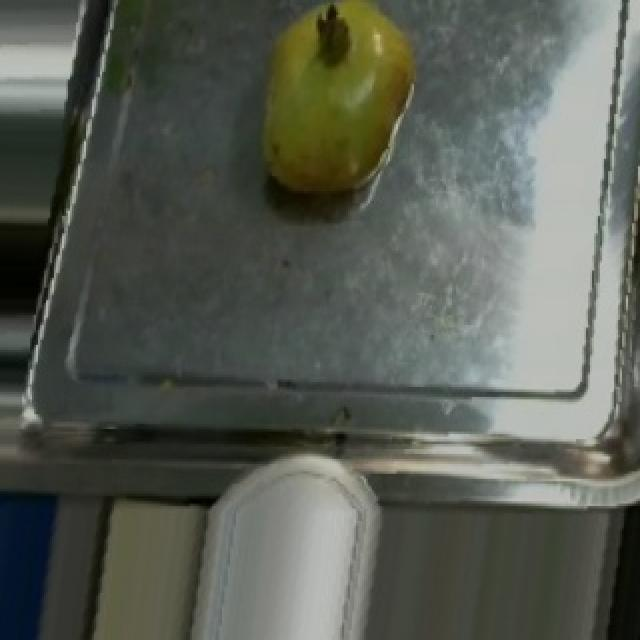fruit: (234, 0, 440, 211)
